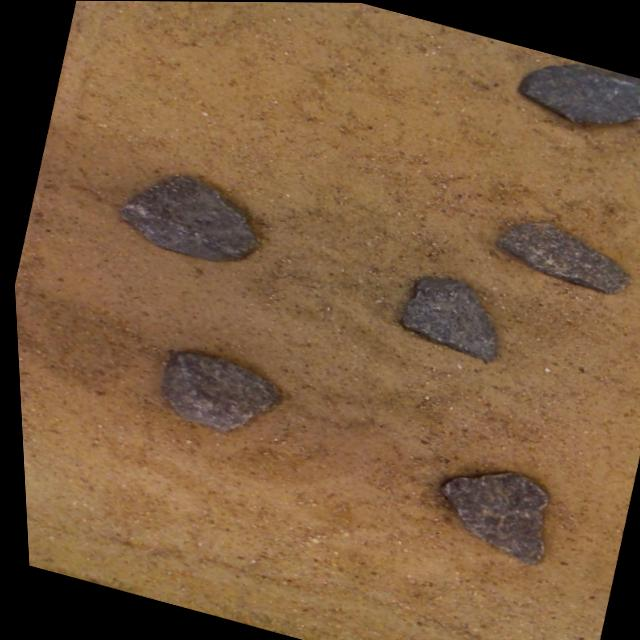rock: (117, 176, 254, 261), (435, 472, 542, 564), (495, 221, 627, 292), (157, 352, 275, 431), (398, 276, 492, 360), (518, 64, 640, 122)
